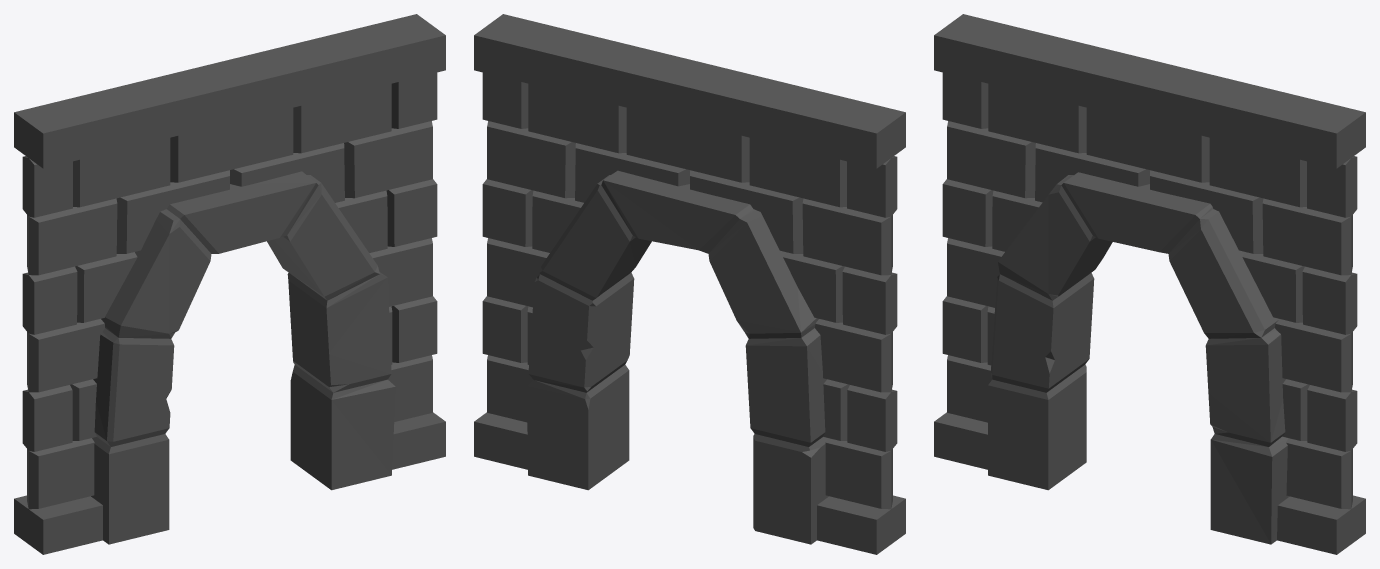
File: Doorway_02.fbx
3 views of the same model, side by side, from view 1: azimuth 30°, elevation 25°; view 2: azimuth 150°, elevation 25°; view 3: azimuth 330°, elevation 25° (orthographic).
Visible parts, largest first — view 1: Doorway.001; view 2: Doorway.001; view 3: Doorway.001.
Part boxes in pixels (<box>): Doorway.001: <box>14,14,445,554</box>; Doorway.001: <box>474,14,905,554</box>; Doorway.001: <box>934,14,1365,554</box>.
Bounding box in the file's own units: 400 × 400 × 72.57.
